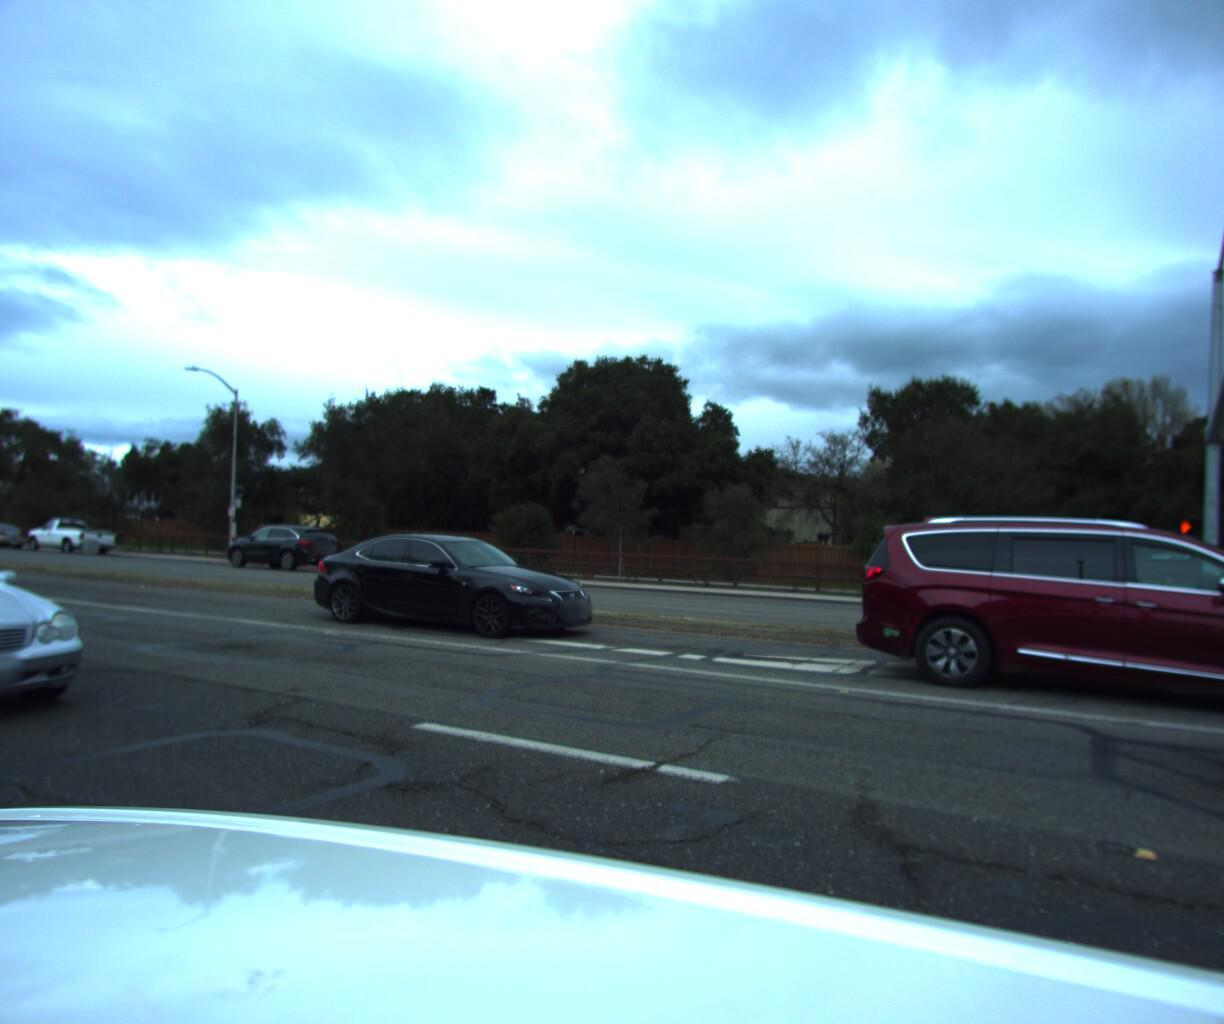car: (824, 506, 1224, 757), (295, 525, 611, 649), (0, 510, 124, 767), (1201, 534, 1224, 1024), (215, 515, 348, 570), (22, 508, 120, 550), (0, 516, 30, 545)
